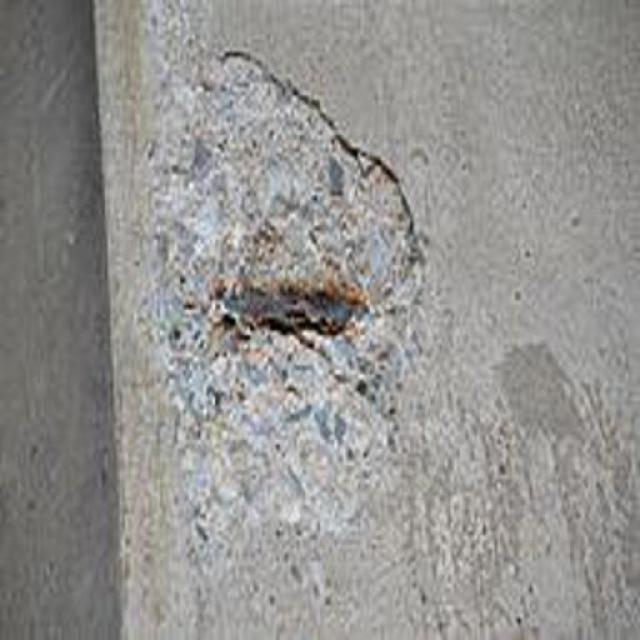D10: (159, 54, 421, 624)
